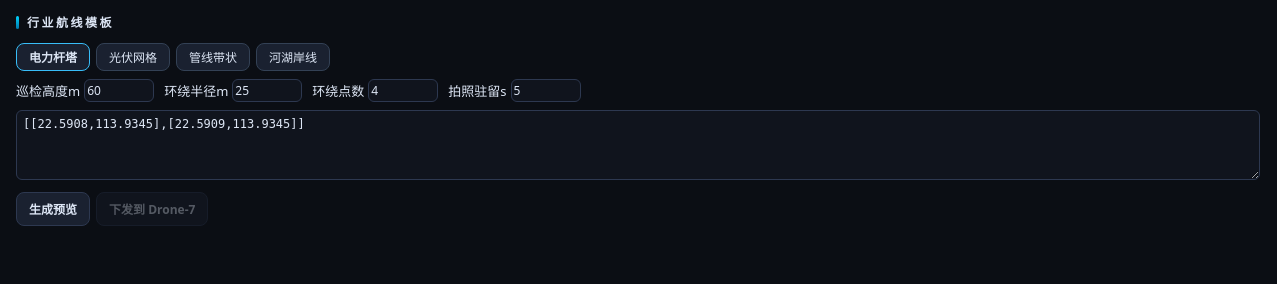
生成预览的失败与鉴权路径 › 坐标 JSON 语法错：报"解析失败"，且**根本不发请求**
Replace the text in the text box with "[ [1,2],": (638, 145) [16, 110, 1260, 180]
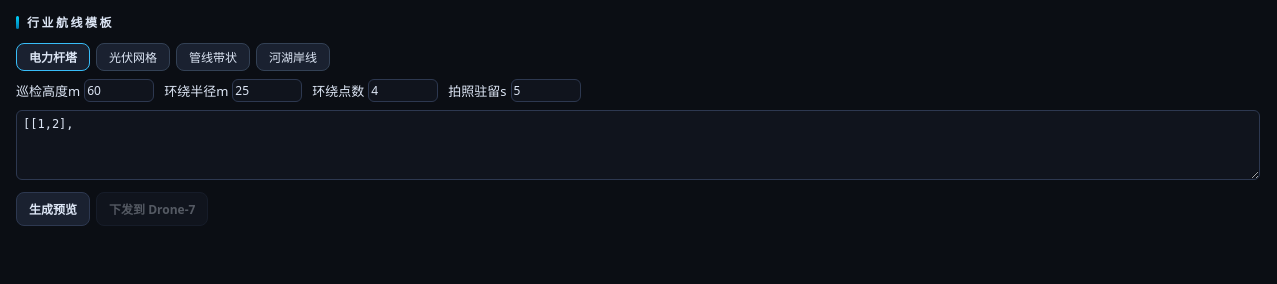
Click the button "生成预览": (53, 209) [16, 192, 90, 226]
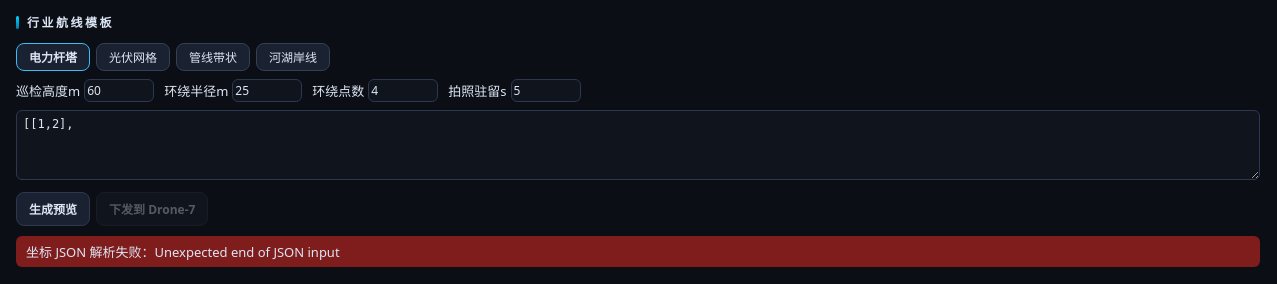
expect the text "坐标 JSON 解析失败" is shown: met, box [26, 243, 340, 261]
